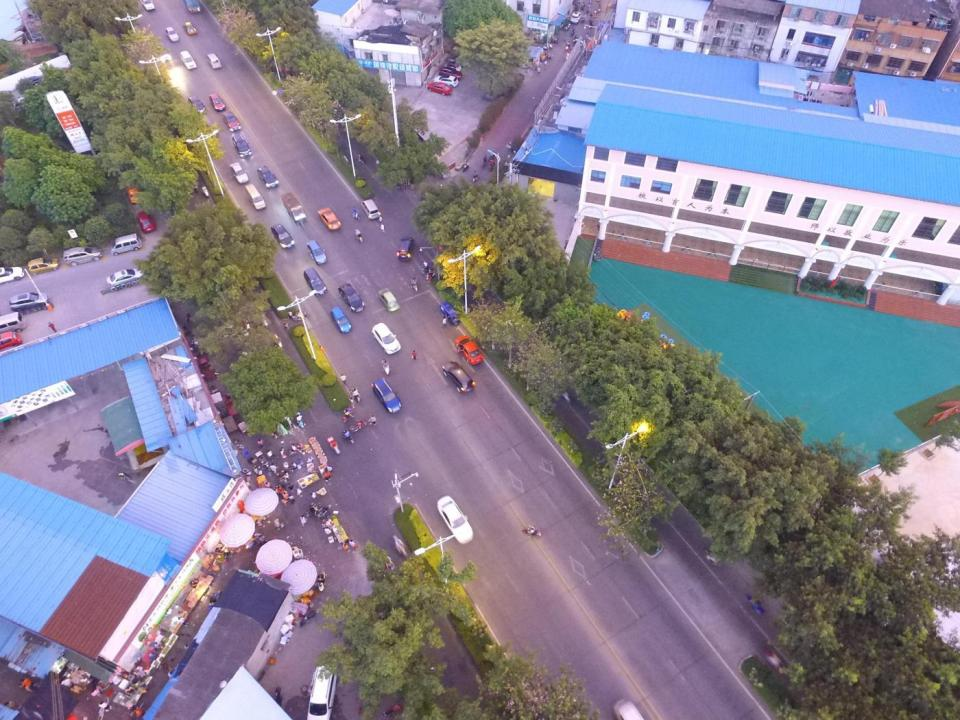car: (436, 495, 474, 545), (372, 378, 403, 414), (442, 361, 476, 393), (372, 322, 402, 355), (454, 336, 485, 365), (337, 282, 365, 313), (10, 292, 48, 313), (106, 267, 147, 286), (27, 256, 59, 276), (318, 207, 342, 232), (271, 224, 294, 250), (379, 287, 401, 312), (331, 306, 351, 333), (0, 330, 23, 352), (307, 240, 327, 265), (232, 134, 252, 158), (396, 236, 415, 261), (228, 163, 249, 185), (0, 267, 25, 284), (136, 210, 155, 232), (126, 182, 142, 205), (427, 82, 453, 95), (432, 74, 458, 86), (440, 66, 462, 80), (188, 96, 206, 113), (224, 112, 240, 131), (208, 94, 224, 112), (444, 60, 464, 70), (165, 27, 179, 41), (184, 22, 196, 36), (570, 11, 581, 24)
van: (307, 665, 339, 719), (62, 245, 103, 267), (281, 192, 307, 223), (110, 233, 142, 255), (303, 268, 327, 296), (0, 311, 25, 337), (244, 184, 266, 211), (439, 302, 460, 325), (361, 200, 380, 220), (179, 49, 197, 68), (138, 0, 156, 13), (184, 0, 200, 14), (208, 53, 220, 69)
